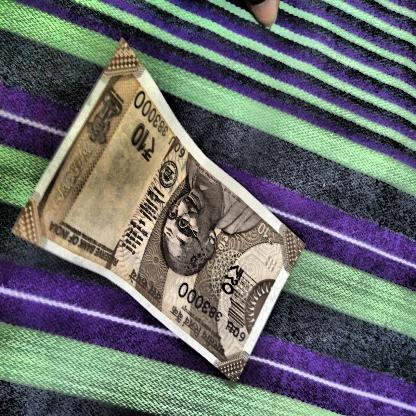Rs10: (123, 116, 163, 168)
